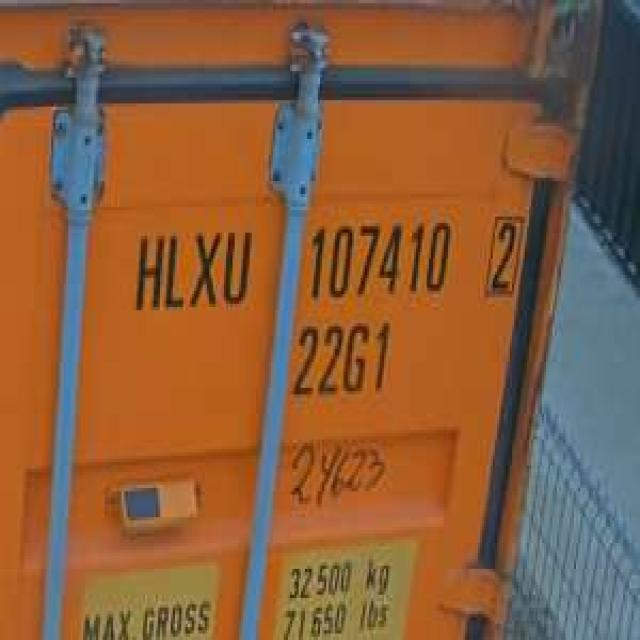dv: (482, 204, 529, 297)
owner: (130, 217, 256, 320)
serial: (301, 210, 452, 304)
size: (290, 313, 395, 401)
